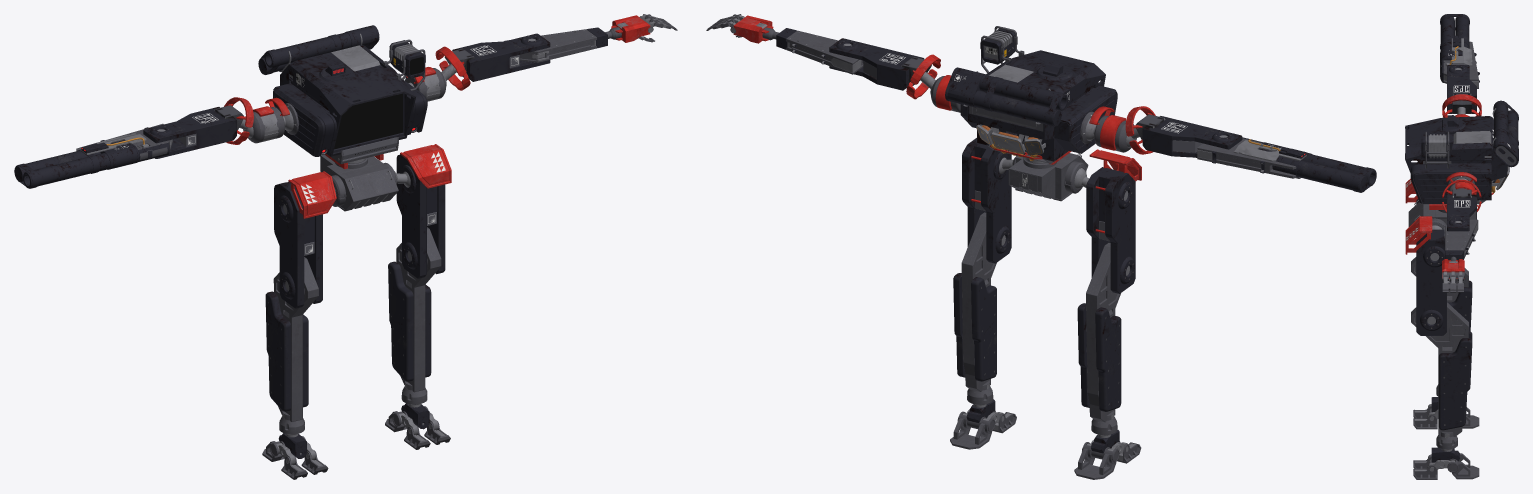
The model's file is robot_borzoi.fbx.
3 renders of one model, left to right at view 1: azimuth 30°, elevation 25°; view 2: azimuth 150°, elevation 25°; view 3: azimuth 270°, elevation 25°, orthographic. The views are drawn at different scales.
Visible parts, largest first — view 1: Cube.072, Cube.101, leg.003, leg.004, Cube.073, Sphere.018, Sphere.017, Cube.052, Cylinder.017, Cylinder.021, Cube.054, Sphere.013 (+5 smaller); view 2: Cube.072, leg.004, leg.003, Cube.101, Cube.073, Cylinder.021, Sphere.018, Sphere.017, Cube.052, Cube, Cylinder.017, Cube.054 (+4 smaller); view 3: Cube.072, leg.003, Cube.073, Sphere.018, Cylinder.021, Sphere.017, Cylinder.017, Cube, Cube.054, leg.004, Cube.052, Sphere.009 (+7 smaller).
Boxes of the visible parts, left/top/right/bottom form: Cube.072: left=273, top=33, right=427, bottom=169; Cube.101: left=274, top=171, right=336, bottom=308; leg.003: left=388, top=227, right=441, bottom=404; leg.004: left=265, top=257, right=318, bottom=434; Cube.073: left=396, top=144, right=451, bottom=278; Sphere.018: left=143, top=97, right=253, bottom=158; Sphere.017: left=435, top=33, right=550, bottom=90; Cube.052: left=320, top=154, right=398, bottom=211; Cylinder.017: left=14, top=140, right=137, bottom=188; Cylinder.021: left=258, top=25, right=379, bottom=74; Cube.054: left=504, top=27, right=614, bottom=62; Sphere.013: left=245, top=97, right=293, bottom=143; Cube.072: left=960, top=26, right=1117, bottom=164; leg.004: left=1077, top=243, right=1121, bottom=434; leg.003: left=953, top=212, right=996, bottom=404; Cube.101: left=1086, top=149, right=1141, bottom=293; Cube.073: left=962, top=138, right=1011, bottom=263; Cylinder.021: left=945, top=67, right=1067, bottom=126; Sphere.018: left=1125, top=106, right=1242, bottom=165; Sphere.017: left=829, top=38, right=940, bottom=99; Cube.052: left=1008, top=153, right=1088, bottom=201; Cube: left=1197, top=137, right=1306, bottom=178; Cylinder.017: left=1258, top=142, right=1376, bottom=192; Cube.054: left=769, top=28, right=863, bottom=74; Cube.072: left=1405, top=108, right=1509, bottom=209; leg.003: left=1411, top=302, right=1472, bottom=449; Cube.073: left=1405, top=216, right=1456, bottom=335; Sphere.018: left=1442, top=65, right=1481, bottom=117; Cylinder.021: left=1493, top=100, right=1518, bottom=167; Sphere.017: left=1442, top=179, right=1481, bottom=231; Cylinder.017: left=1440, top=14, right=1469, bottom=63; Cube: left=1440, top=35, right=1479, bottom=88; Cube.054: left=1444, top=219, right=1478, bottom=260; leg.004: left=1411, top=257, right=1472, bottom=396; Cube.052: left=1408, top=200, right=1446, bottom=237; Sphere.009: left=1431, top=447, right=1459, bottom=472.
Bounding box in the file's own units: 366 × 213 × 65.94.
